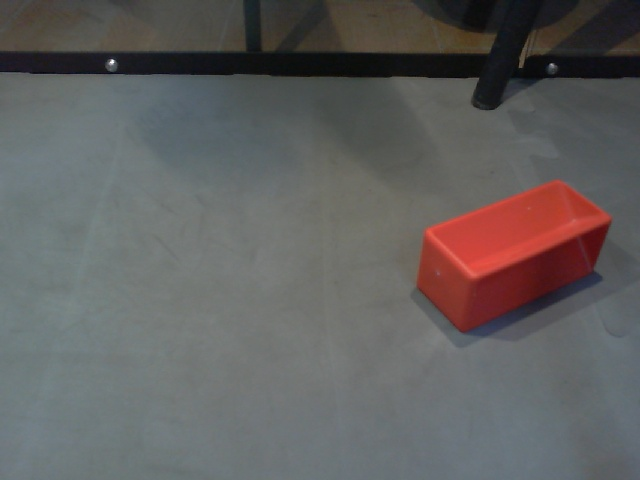RedSample: (414, 177, 614, 336)
